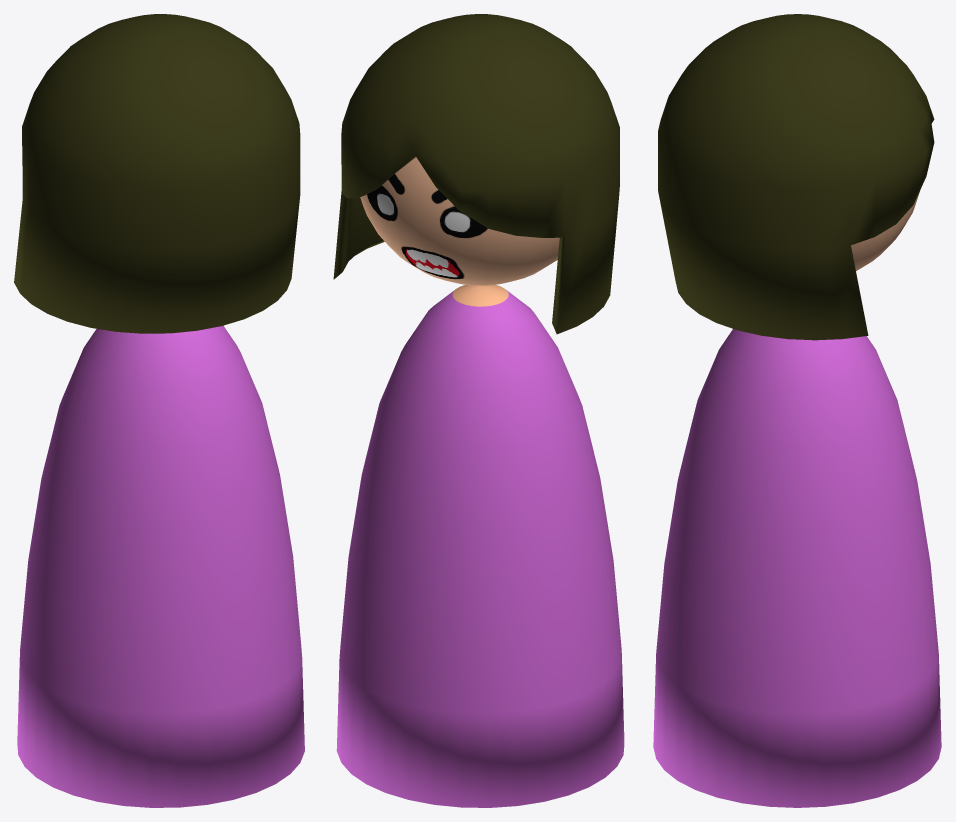
The model's file is Chara7.fbx.
3 renders of one model, left to right at view 1: azimuth 30°, elevation 25°; view 2: azimuth 150°, elevation 25°; view 3: azimuth 270°, elevation 25°, orthographic.
Parts seen in each view (by area): view 1: Sphere.002, Sphere.003; view 2: Sphere.002, Sphere.003, Sphere.001; view 3: Sphere.002, Sphere.003, Sphere.001.
Boxes of the visible parts, x1,y1,x2,y2 form: Sphere.002: [17, 325, 304, 807]; Sphere.003: [14, 14, 300, 333]; Sphere.002: [336, 285, 624, 807]; Sphere.003: [333, 14, 619, 334]; Sphere.001: [360, 157, 559, 285]; Sphere.002: [653, 329, 941, 807]; Sphere.003: [658, 14, 934, 340]; Sphere.001: [851, 190, 920, 271].
Size of the model in its own units: 153 by 448 by 153.
